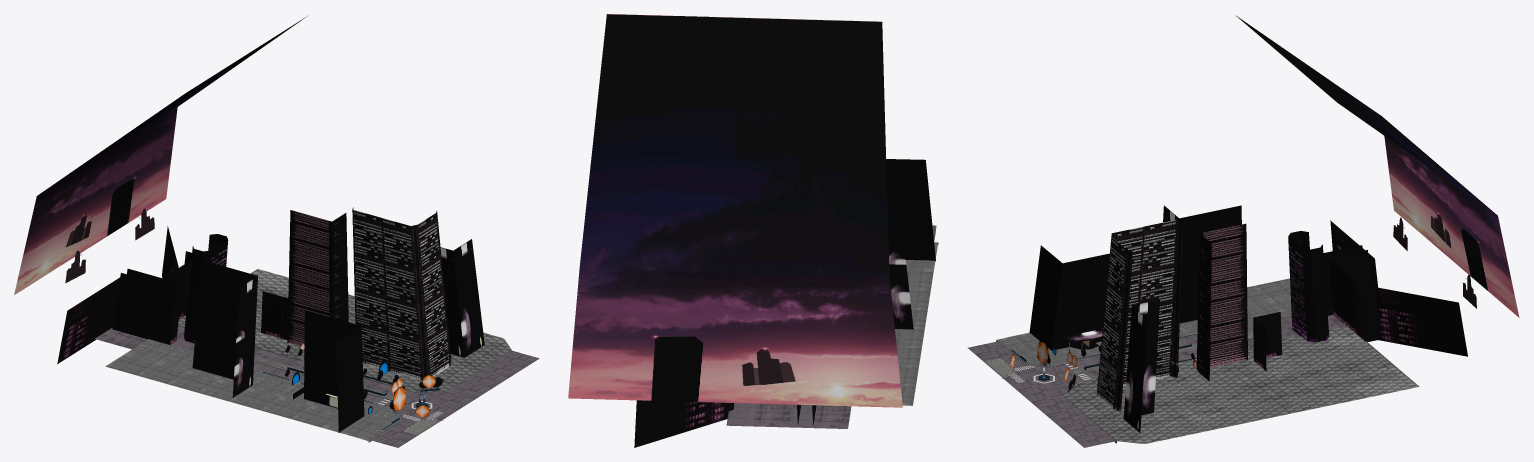
Rendered from epic.fbx.
3 renders of one model, left to right at view 1: azimuth 30°, elevation 25°; view 2: azimuth 150°, elevation 25°; view 3: azimuth 270°, elevation 25°, orthographic. The views are drawn at different scales.
Parts seen in each view (by area): view 1: pPlane76; view 2: pPlane76; view 3: pPlane76.
Boxes of the visible parts, <box> form: pPlane76: <box>14,15,539,447</box>; pPlane76: <box>568,14,938,447</box>; pPlane76: <box>968,15,1519,447</box>.
Bounding box in the file's own units: 78 × 56.87 × 95.63.
Materials: 27 (27 with a texture image).
